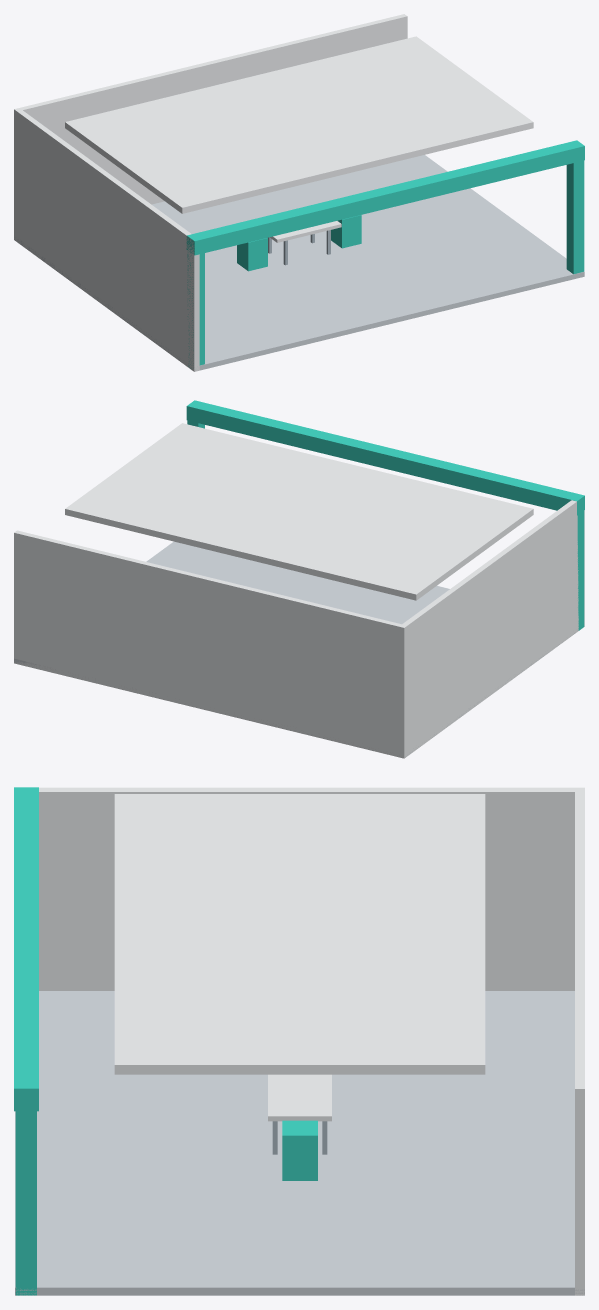
3 views of the same model, one above another, from view 1: azimuth 30°, elevation 25°; view 2: azimuth 150°, elevation 25°; view 3: azimuth 270°, elevation 25° (orthographic). The views are drawn at different scales.
Parts seen in each view (by area): view 1: Exhibition Booth Concept; view 2: Exhibition Booth Concept; view 3: Exhibition Booth Concept.
Part boxes in pixels (left/top/right/bottom): Exhibition Booth Concept: left=14, top=14, right=584, bottom=371; Exhibition Booth Concept: left=14, top=400, right=584, bottom=758; Exhibition Booth Concept: left=14, top=787, right=584, bottom=1295.
Bounding box in the file's own units: 10 × 3.34 × 8.01.
